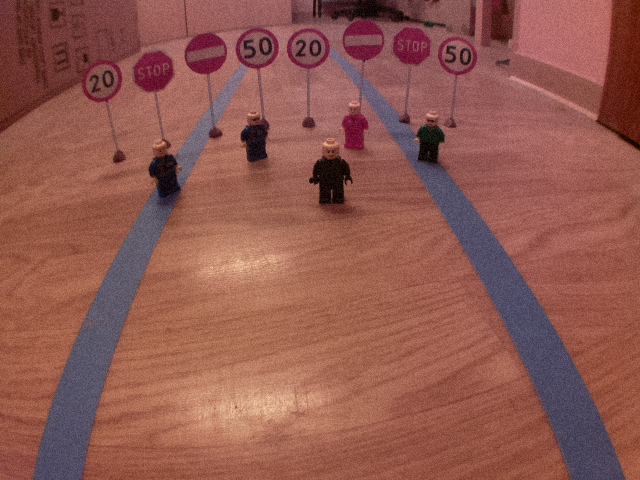LEGO_person: (308, 136, 355, 205), (147, 138, 184, 199), (413, 110, 449, 167), (238, 108, 271, 164), (338, 99, 371, 152)
ogr_20: (80, 59, 124, 104), (286, 27, 330, 70)
ogr_50: (234, 26, 281, 70), (436, 35, 480, 77)
stop: (133, 47, 177, 93), (391, 26, 433, 67)
zakaz: (183, 30, 228, 76), (341, 19, 386, 62)
